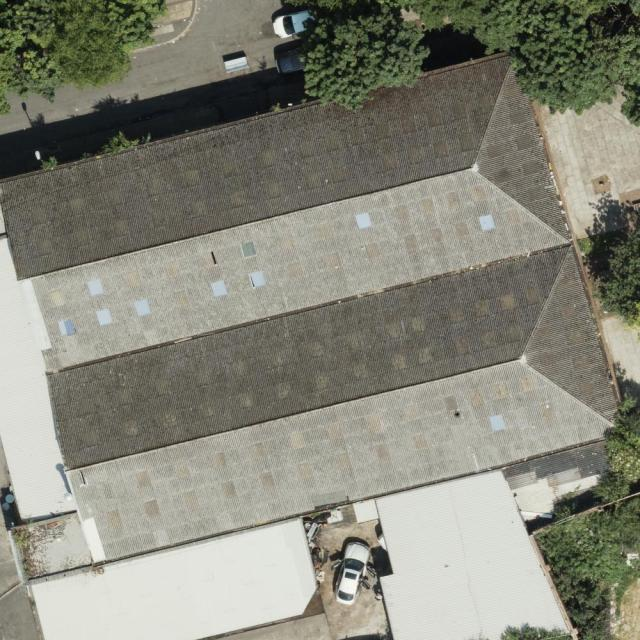roof: (2, 43, 629, 640)
skylight: (55, 318, 77, 340), (488, 412, 508, 434), (85, 277, 105, 299), (133, 298, 154, 318), (209, 278, 230, 298), (249, 269, 268, 289), (239, 240, 258, 260), (96, 308, 114, 328), (479, 213, 497, 232), (354, 213, 372, 229)
